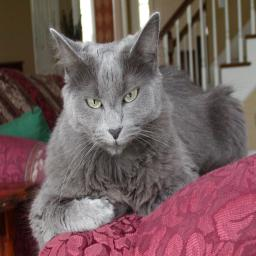catnose: (106, 126, 124, 140)
